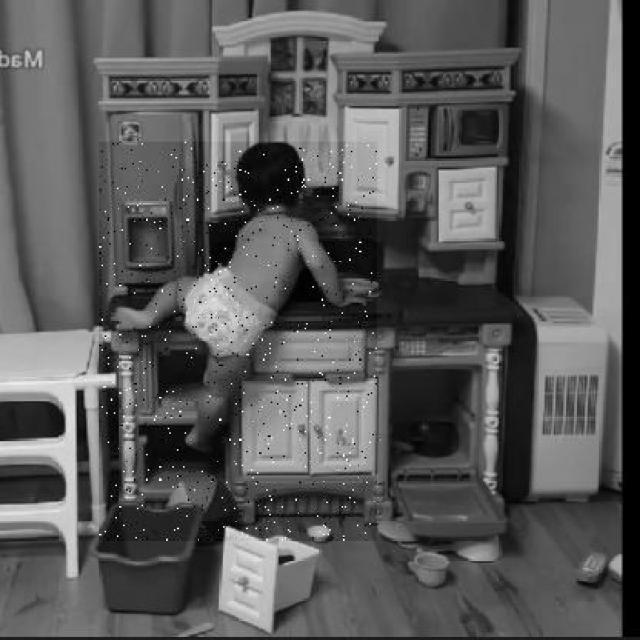child: (100, 142, 377, 541)
